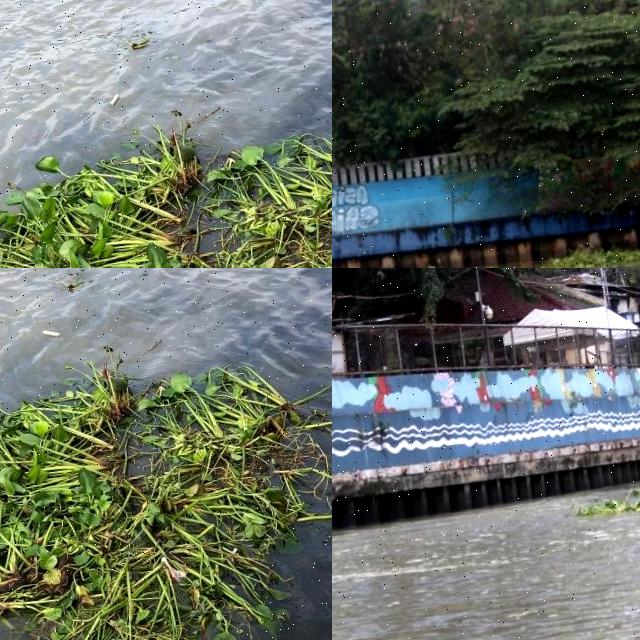water-hyacinth: (1, 339, 333, 640), (1, 94, 333, 269), (547, 232, 640, 269), (578, 471, 640, 520)
